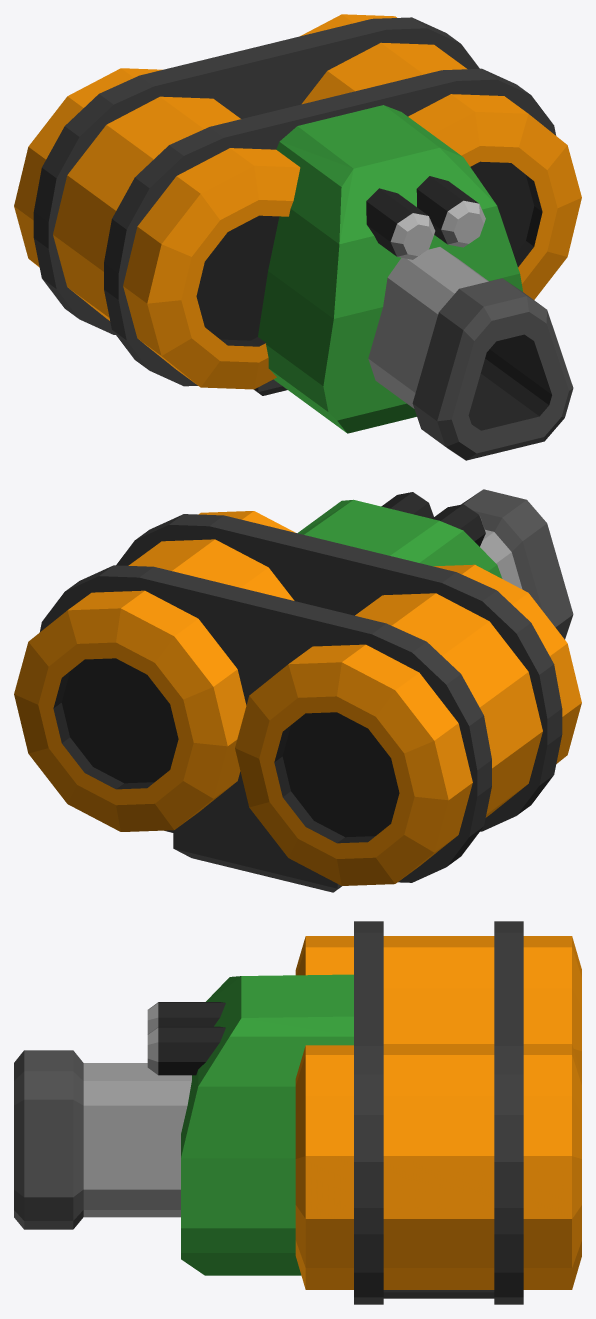
File: toxic_cannon.fbx
The picture shows the model from 3 angles, top to bottom: view 1: azimuth 30°, elevation 25°; view 2: azimuth 150°, elevation 25°; view 3: azimuth 270°, elevation 25°; orthographic projection.
Parts seen in each view (by area): view 1: Cylinder.030, Cube.052, Cube.008, Cube.045; view 2: Cylinder.030, Cube.008, Cube.052, Cube.045; view 3: Cylinder.030, Cube.052, Cube.045, Cube.008.
Boxes of the visible parts, box(x1,y1,x2,y2) form: Cylinder.030: box(14, 14, 581, 389); Cube.052: box(258, 105, 522, 433); Cube.008: box(33, 17, 556, 395); Cube.045: box(368, 247, 573, 460); Cylinder.030: box(14, 511, 581, 885); Cube.008: box(40, 514, 562, 892); Cube.052: box(297, 492, 502, 578); Cube.045: box(461, 489, 573, 639); Cylinder.030: box(295, 936, 581, 1289); Cube.052: box(147, 974, 353, 1275); Cube.045: box(14, 1050, 191, 1229); Cube.008: box(354, 921, 523, 1304).
Bounding box in the file's own units: 126 × 74.49 × 140.
